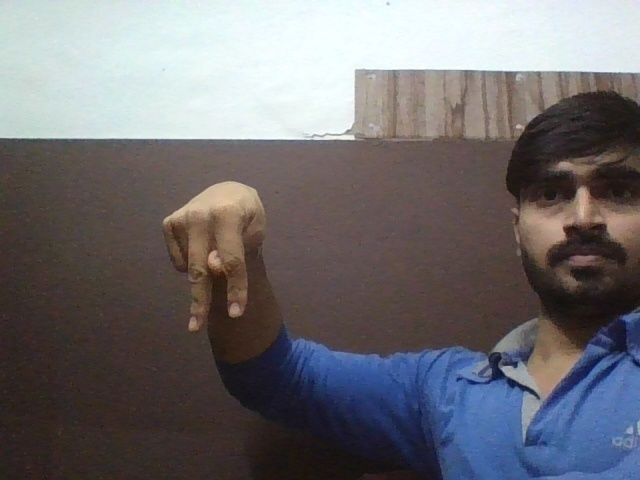P: (135, 179, 280, 335)
